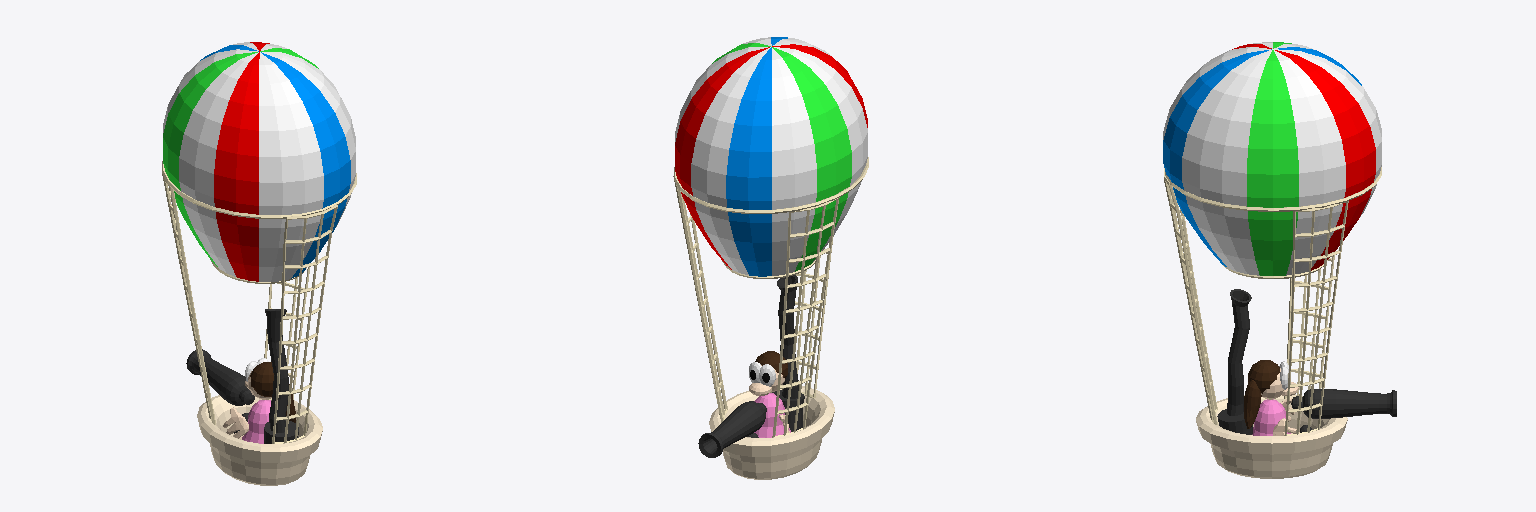
Rendered from airship.obj.
3 renders of one model, left to right at view 1: azimuth 30°, elevation 25°; view 2: azimuth 150°, elevation 25°; view 3: azimuth 270°, elevation 25°, orthographic.
Parts seen in each view (by area): view 1: Sphere01, Object04, Line01, Object05, Plane03, Object03, Line02, Plane01, Tube01, Torus01, Sphere03, Plane02 (+1 smaller); view 2: Sphere01, Object05, Object03, Line01, Object04, Plane01, Plane02, Line02, Tube01, Plane03, Torus01, Sphere03; view 3: Sphere01, Object03, Line01, Object04, Object05, Plane02, Plane03, Line02, Tube01, Plane01, Torus01, Sphere03 (+2 smaller).
Boxes of the visible parts, x1,y1,x2,y2 form: Sphere01: [163, 42, 355, 281]; Object04: [214, 42, 269, 281]; Line01: [197, 395, 322, 485]; Object05: [200, 45, 350, 278]; Plane03: [272, 204, 337, 443]; Object03: [163, 48, 318, 266]; Line02: [186, 349, 254, 405]; Plane01: [162, 174, 215, 424]; Tube01: [265, 309, 288, 432]; Torus01: [162, 161, 356, 218]; Sphere03: [242, 400, 270, 443]; Plane02: [264, 267, 309, 400]; Sphere01: [675, 37, 867, 275]; Object05: [726, 37, 787, 276]; Object03: [712, 43, 851, 271]; Line01: [709, 386, 834, 479]; Object04: [675, 44, 867, 269]; Plane01: [772, 197, 839, 437]; Plane02: [673, 176, 727, 422]; Line02: [698, 401, 766, 457]; Tube01: [777, 275, 798, 398]; Plane03: [782, 236, 833, 398]; Torus01: [674, 157, 868, 213]; Sphere03: [754, 393, 790, 437]; Sphere01: [1163, 42, 1381, 275]; Object03: [1247, 42, 1298, 275]; Line01: [1196, 394, 1347, 478]; Object04: [1232, 44, 1375, 270]; Object05: [1163, 47, 1361, 266]; Plane02: [1284, 201, 1348, 435]; Plane03: [1164, 168, 1217, 424]; Line02: [1291, 389, 1396, 418]; Tube01: [1227, 289, 1251, 415]; Plane01: [1284, 255, 1334, 399]; Torus01: [1165, 167, 1381, 211]; Sphere03: [1252, 399, 1290, 435].
Size of the model in its own units: 40.63 by 98.31 by 50.2.